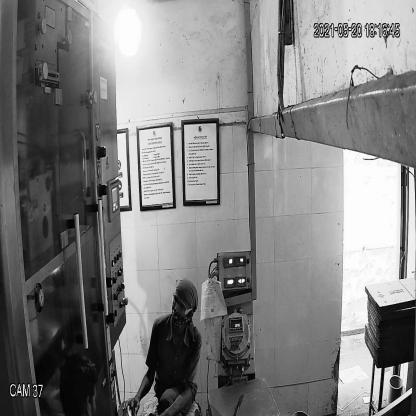goggles: (170, 292, 193, 316)
